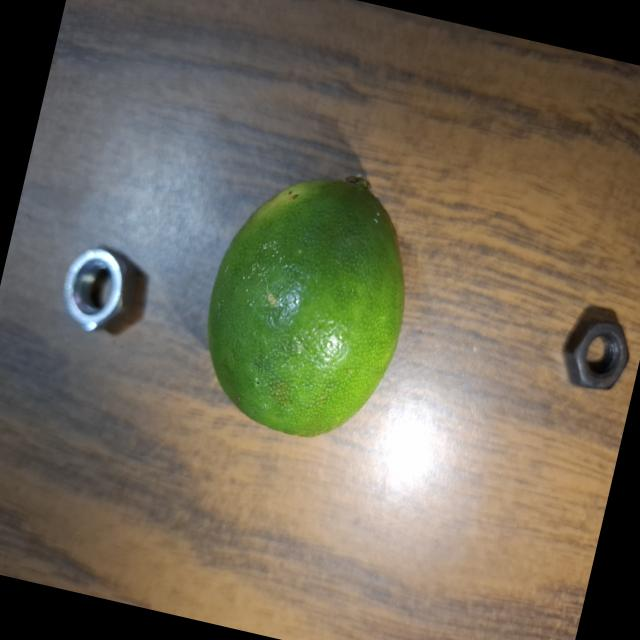limon: (178, 135, 438, 457)
milimetrico: (551, 304, 640, 398)
tuerca: (45, 230, 146, 357)
